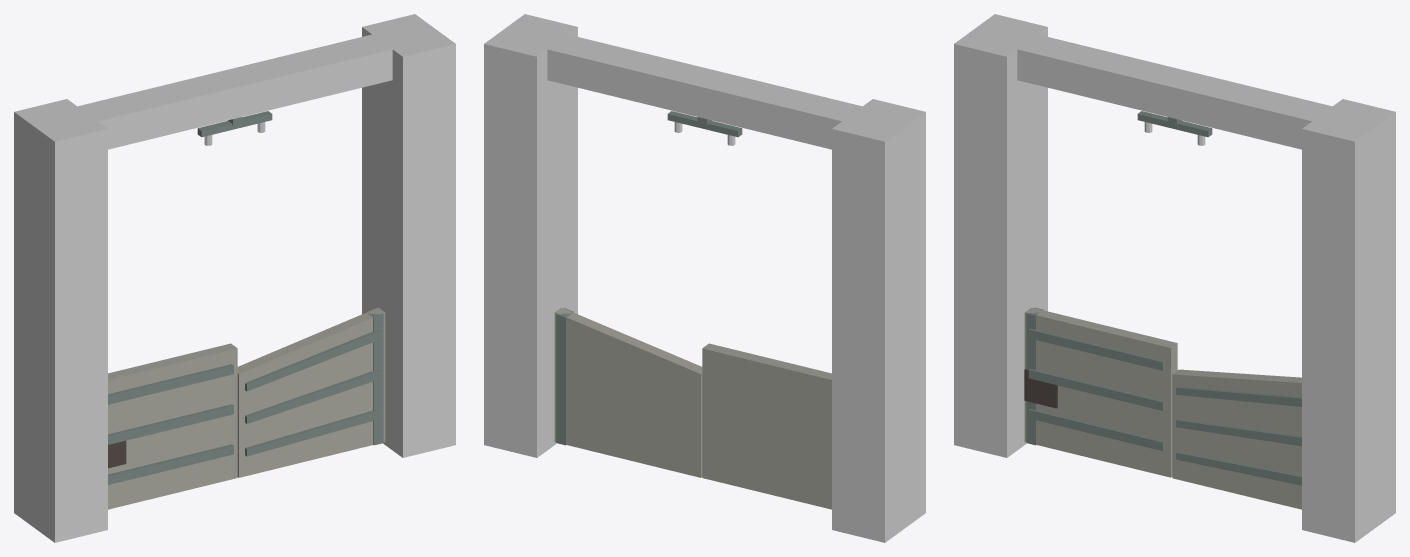
File: SM_PuertaVia_v4_Blindada_e1_Danado_LOD0.fbx
3 views of the same model, side by side, from view 1: azimuth 30°, elevation 25°; view 2: azimuth 150°, elevation 25°; view 3: azimuth 330°, elevation 25° (orthographic).
Visible parts, largest first — view 1: SM_bloques.puerta_via_v17_LOD0, Hoja_E, Hoja_O; view 2: SM_bloques.puerta_via_v17_LOD0, Hoja_E, Hoja_O; view 3: SM_bloques.puerta_via_v17_LOD0, Hoja_O, Hoja_E.
Boxes of the visible parts, x1,y1,x2,y2 form: SM_bloques.puerta_via_v17_LOD0: (14,14,455,542); Hoja_E: (237,307,385,477); Hoja_O: (108,343,237,509); SM_bloques.puerta_via_v17_LOD0: (484,14,925,542); Hoja_E: (554,307,702,477); Hoja_O: (702,343,831,509); SM_bloques.puerta_via_v17_LOD0: (954,14,1395,542); Hoja_O: (1024,307,1177,477); Hoja_E: (1172,369,1301,509).
Bounding box in the file's own units: 6.8 × 6.5 × 1.2.
